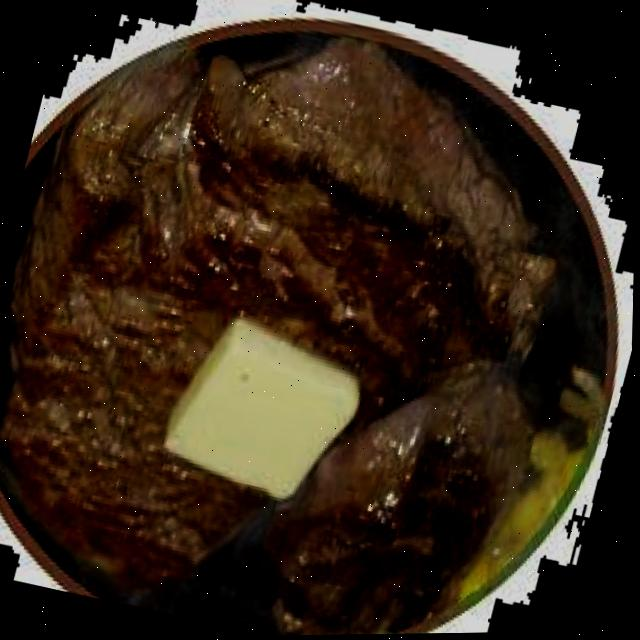牛肉菜式: (0, 55, 595, 640)
